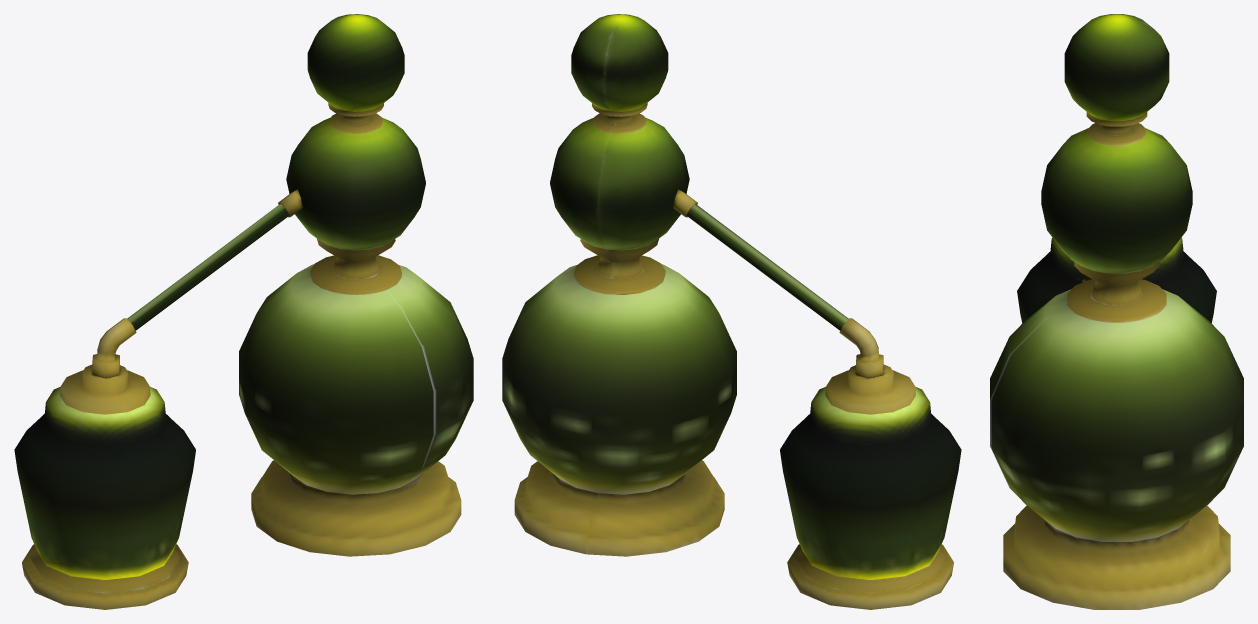
File: Alembic.fbx
3 renders of one model, left to right at view 1: azimuth 30°, elevation 25°; view 2: azimuth 150°, elevation 25°; view 3: azimuth 270°, elevation 25°, orthographic. The views are drawn at different scales.
Parts seen in each view (by area): view 1: Alembic; view 2: Alembic; view 3: Alembic.
Boxes of the visible parts, x1,y1,x2,y2 form: Alembic: (14,14,473,609); Alembic: (502,14,961,609); Alembic: (990,14,1243,609).
Bounding box in the file's own units: 0.8043 × 0.8885 × 0.3742.
